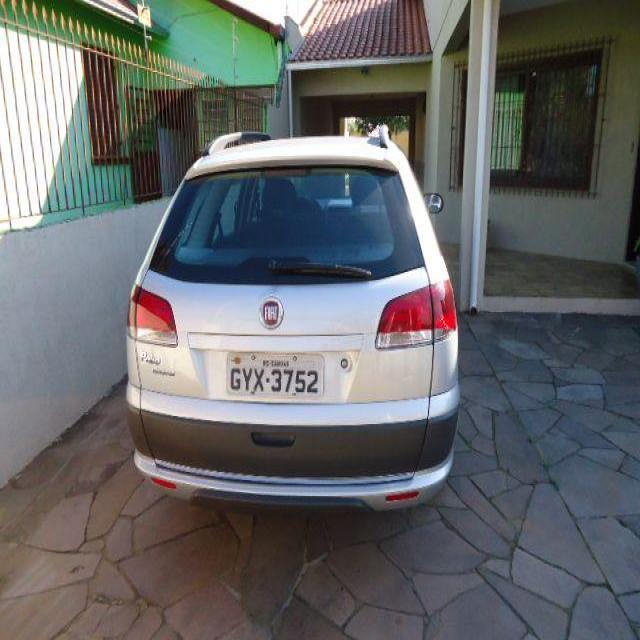Placa: (224, 349, 326, 403)
